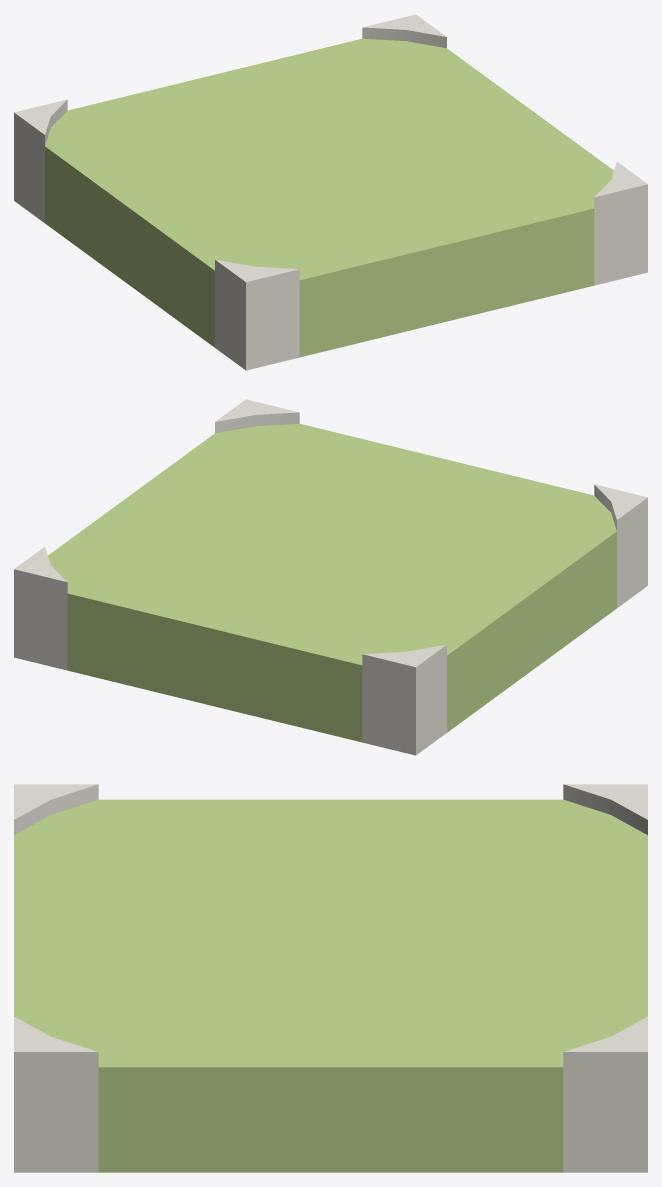
Rendered from road_tile_039.glb.
The picture shows the model from 3 angles, top to bottom: view 1: azimuth 30°, elevation 25°; view 2: azimuth 150°, elevation 25°; view 3: azimuth 270°, elevation 25°; orthographic projection. The views are drawn at different scales.
Visible parts, largest first — view 1: roadTile_039; view 2: roadTile_039; view 3: roadTile_039.
Boxes of the visible parts, x1,y1,x2,y2 form: roadTile_039: [14, 14, 647, 370]; roadTile_039: [14, 399, 647, 755]; roadTile_039: [14, 784, 647, 1172].
Size of the model in its own units: 3 by 0.63 by 3.
